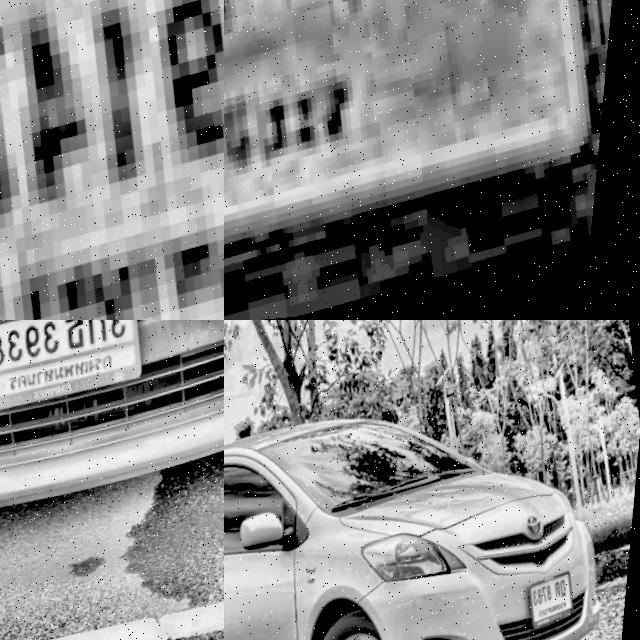license-plate: (224, 0, 640, 320), (0, 0, 224, 320), (0, 320, 150, 419), (528, 579, 586, 640)
